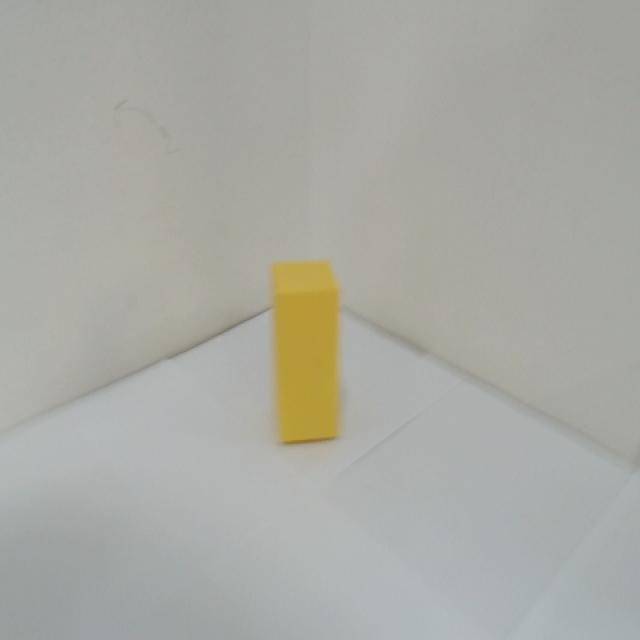cube: (264, 249, 353, 460)
